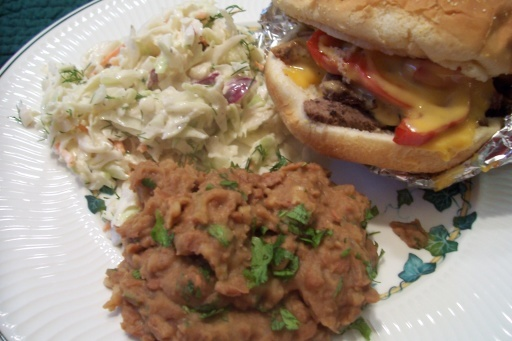background: (14, 0, 409, 182)
